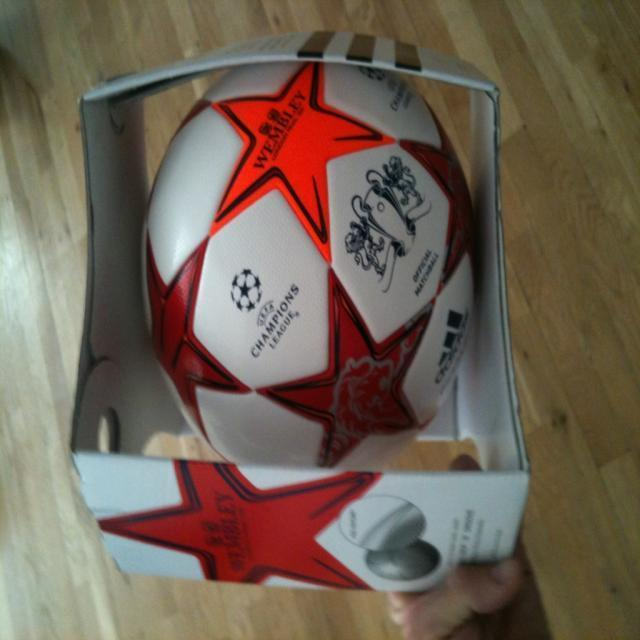football: (139, 48, 483, 471)
